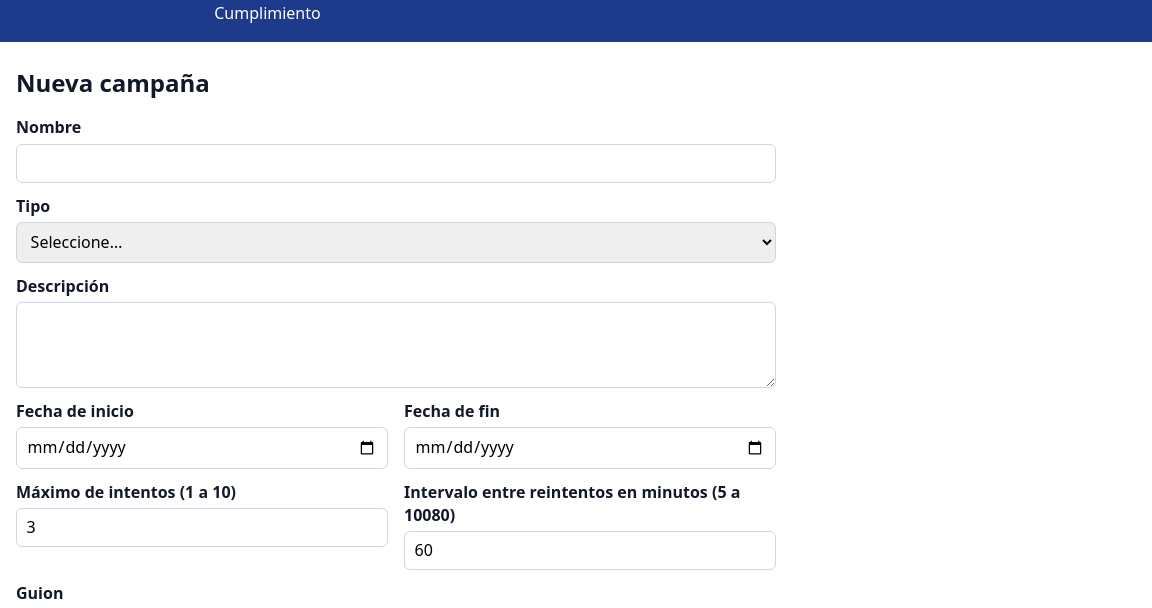
Scenario: Campañas › muestra el error 409 del servidor junto al campo nombre
Type "Repetida" into the field labelled "Nombre".
click(396, 163); type("Repetida")  # box [16,144,776,183]
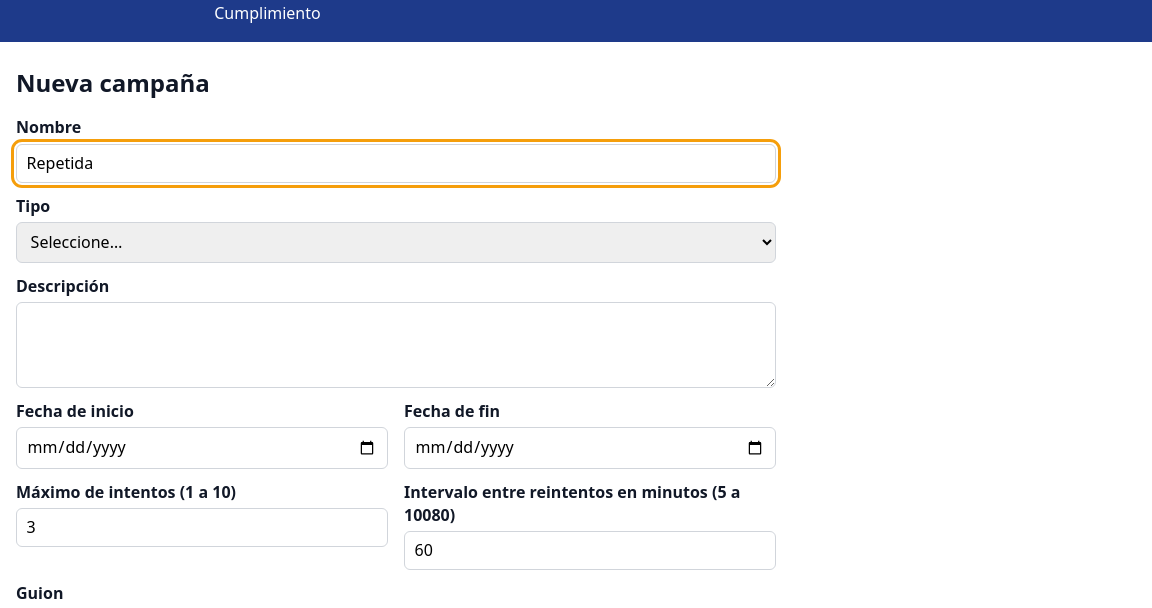
Select "Venta" in the dropdown labelled "Tipo" at (396, 242), box [16,222,776,263]
(page scrolled)
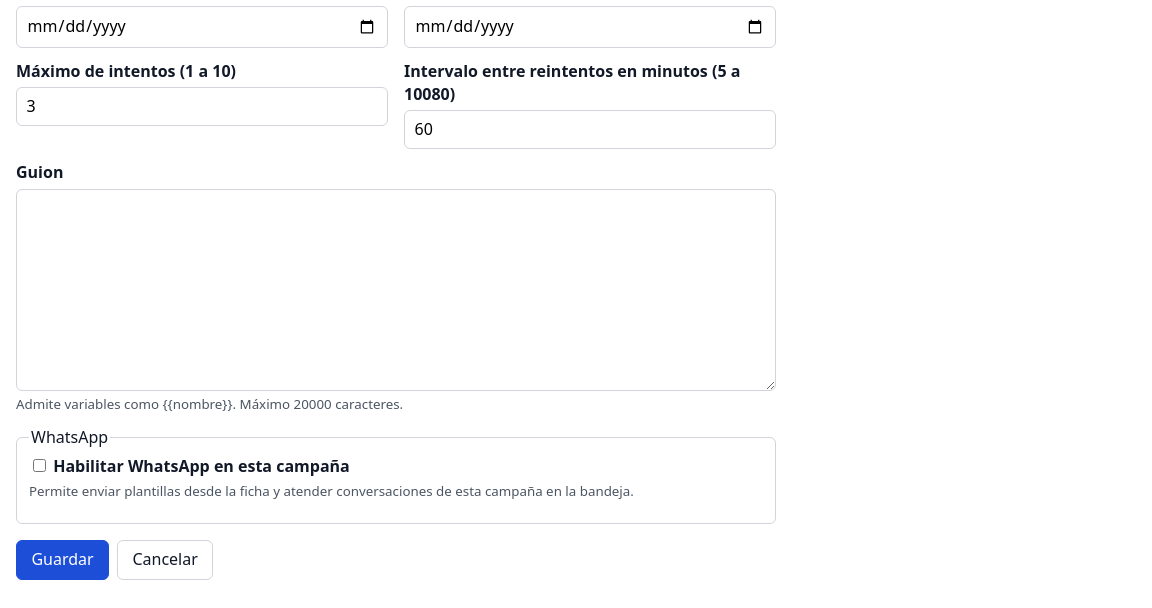
Click the button "Guardar".
click(62, 560)  # box [16,540,109,580]
(page scrolled)
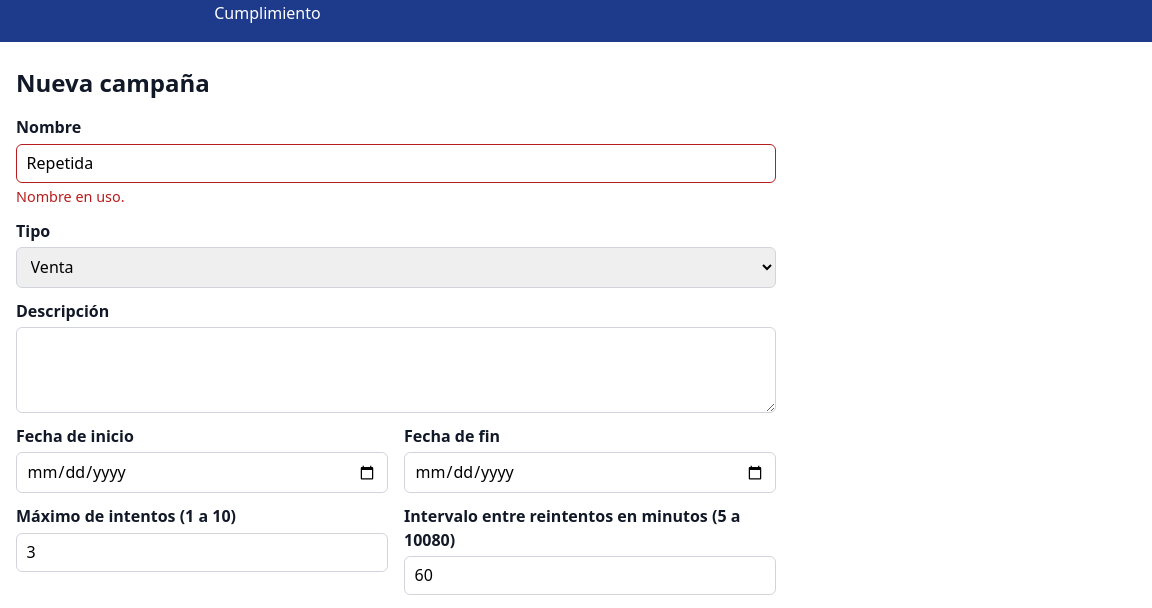
Result: the text "Nombre en uso." is shown at [16,187,125,206]
